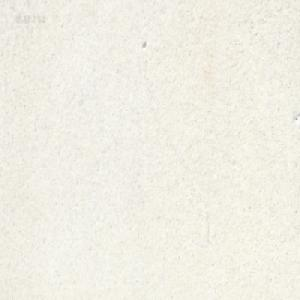Wrench: (186, 0, 193, 5)
